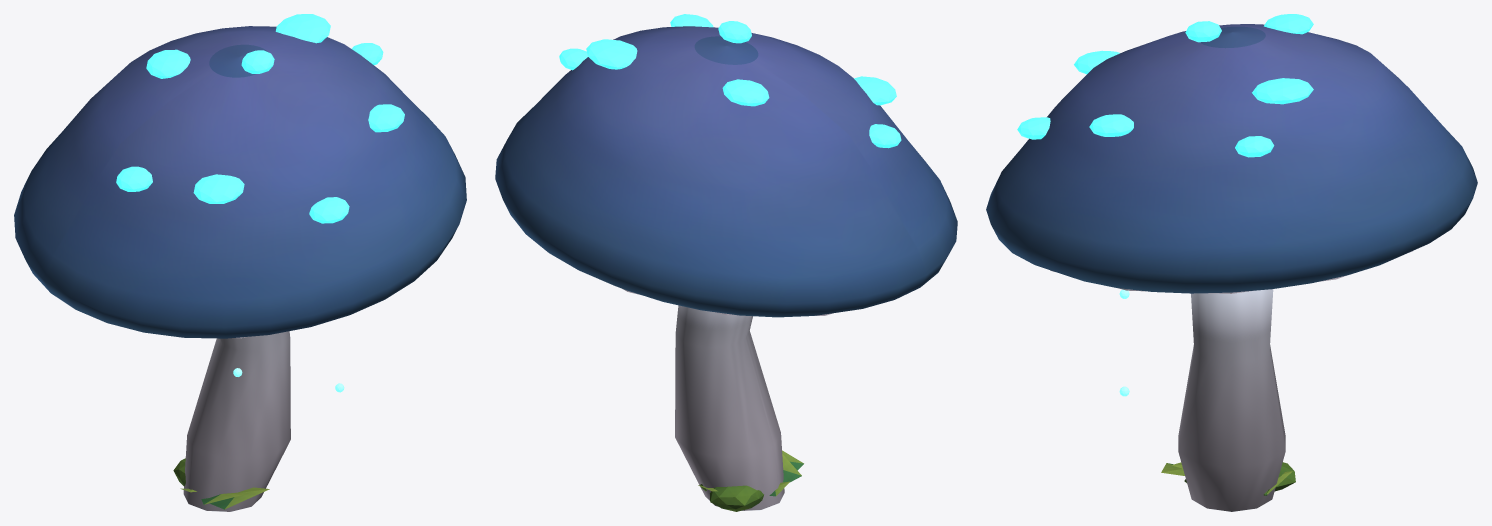
Rendered from forest_mushroom_blue.glb.
The picture shows the model from 3 angles, left to right: view 1: azimuth 30°, elevation 25°; view 2: azimuth 150°, elevation 25°; view 3: azimuth 270°, elevation 25°; orthographic projection. The views are drawn at different scales.
Parts seen in each view (by area): view 1: Broad faceted mushroom cap, Curving luminous mushroom stem, Bioluminescent cap spot, Bioluminescent cap spot.004, Bioluminescent cap spot.003, Bioluminescent cap spot.001, Bioluminescent cap spot.002, Bioluminescent cap spot.006, Bioluminescent cap spot.005; view 2: Broad faceted mushroom cap, Curving luminous mushroom stem, Bioluminescent cap spot.004, Woodland shared moss cushion.018, Bioluminescent cap spot.003, Bioluminescent cap spot, Bioluminescent cap spot.006, Bioluminescent cap spot.005; view 3: Broad faceted mushroom cap, Curving luminous mushroom stem, Bioluminescent cap spot.004, Bioluminescent cap spot.001, Bioluminescent cap spot.003, Bioluminescent cap spot.007, Bioluminescent cap spot.005, Bioluminescent cap spot.002, Bioluminescent cap spot.
Part boxes in pixels (x1,y1,x2,y2): Broad faceted mushroom cap: [14, 26, 466, 338]; Curving luminous mushroom stem: [183, 331, 290, 511]; Bioluminescent cap spot: [193, 174, 244, 203]; Bioluminescent cap spot.004: [275, 14, 330, 43]; Bioluminescent cap spot.003: [146, 49, 190, 78]; Bioluminescent cap spot.001: [368, 104, 404, 132]; Bioluminescent cap spot.002: [309, 197, 349, 223]; Bioluminescent cap spot.006: [116, 166, 152, 191]; Bioluminescent cap spot.005: [241, 50, 274, 73]; Broad faceted mushroom cap: [495, 26, 957, 317]; Curving luminous mushroom stem: [675, 305, 784, 510]; Bioluminescent cap spot.004: [586, 39, 637, 69]; Woodland shared moss cushion.018: [710, 485, 763, 511]; Bioluminescent cap spot.003: [722, 79, 769, 106]; Bioluminescent cap spot: [854, 76, 896, 105]; Bioluminescent cap spot.006: [869, 124, 901, 148]; Bioluminescent cap spot.005: [718, 21, 751, 43]; Broad faceted mushroom cap: [986, 24, 1477, 293]; Curving luminous mushroom stem: [1178, 289, 1285, 511]; Bioluminescent cap spot.004: [1252, 78, 1313, 104]; Bioluminescent cap spot.001: [1089, 114, 1133, 136]; Bioluminescent cap spot.003: [1264, 14, 1313, 34]; Bioluminescent cap spot.007: [1235, 136, 1274, 157]; Bioluminescent cap spot.005: [1185, 21, 1221, 42]; Bioluminescent cap spot.002: [1017, 117, 1050, 139]; Bioluminescent cap spot: [1074, 50, 1119, 74].
Bounding box in the file's own units: 1.74 × 1.89 × 1.74.
8 materials, 6 textured.
